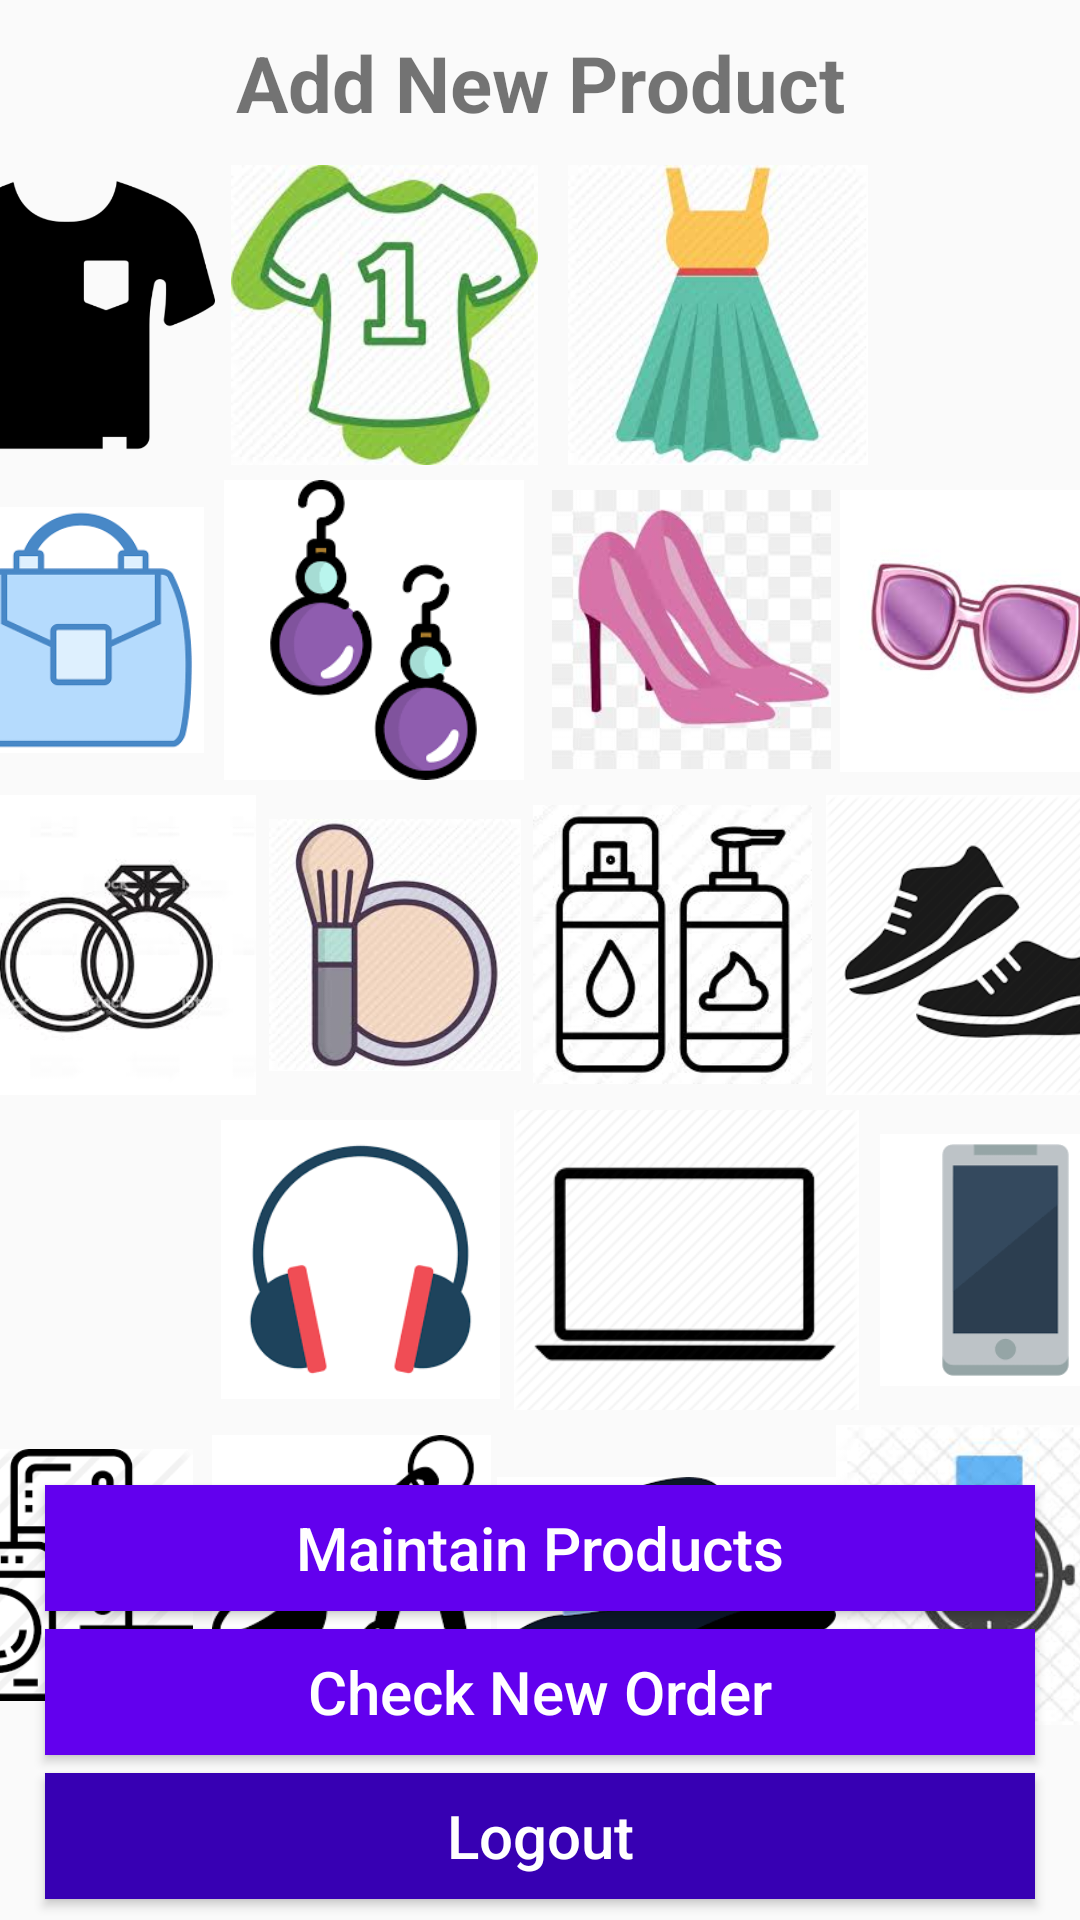

Where to tap for icons on this 1080w x 1920h app screen, as (x=x, y=y):
cosmetics: (x=672, y=944)
earring: (x=373, y=630)
female dress: (x=717, y=314)
headphone: (x=360, y=1259)
jersey: (x=384, y=315)
makeup: (x=396, y=945)
